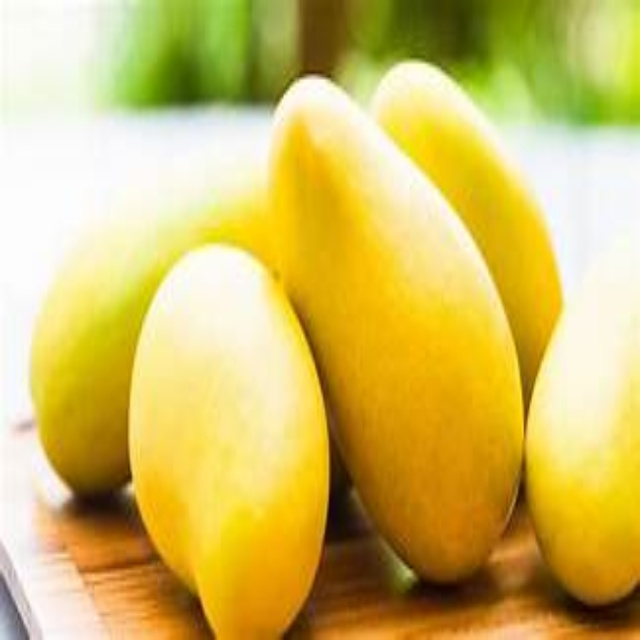mango: (272, 86, 544, 565), (126, 250, 333, 636), (35, 181, 286, 497), (528, 241, 639, 607)
